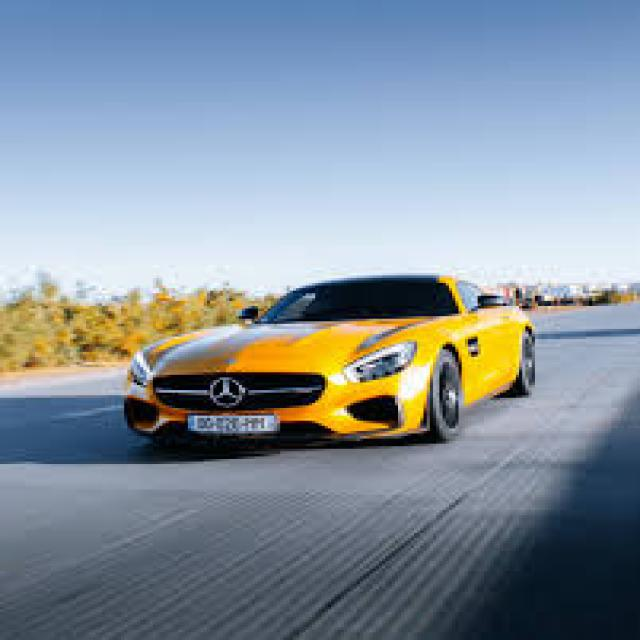car: (125, 277, 535, 437)
